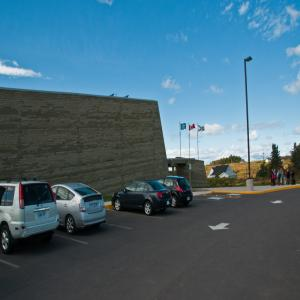Vehicle-registration-plate: (39, 212, 48, 220)
